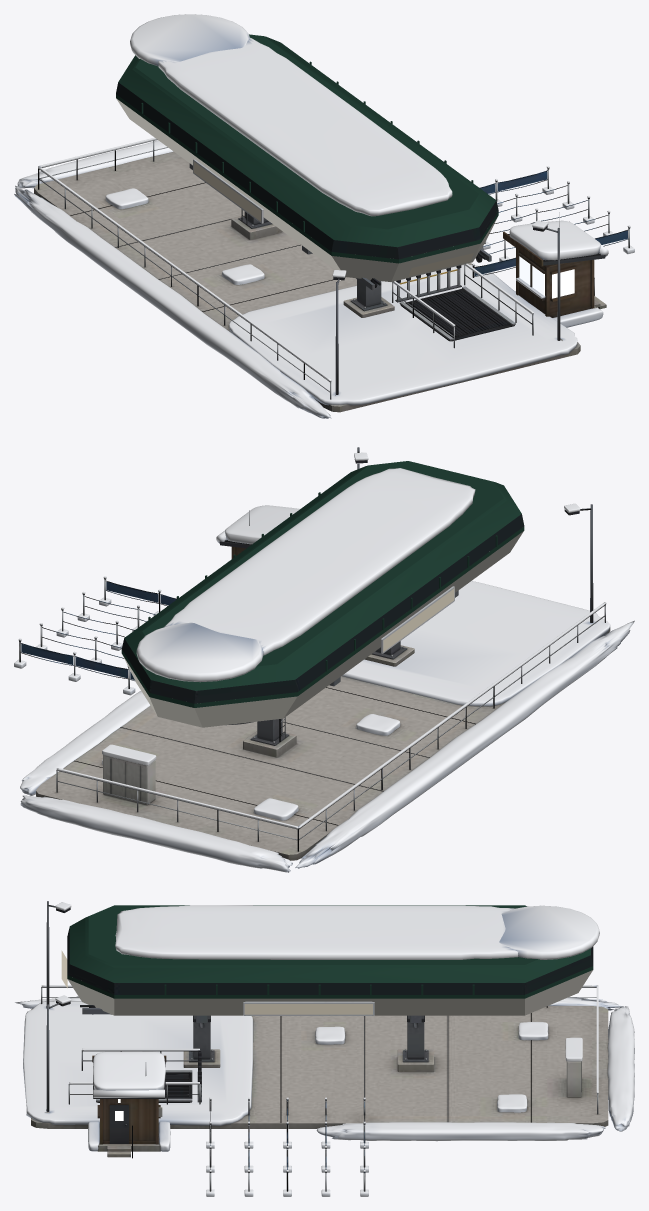
The model's file is terminal_detach_ctec.glb.
The picture shows the model from 3 angles, top to bottom: view 1: azimuth 30°, elevation 25°; view 2: azimuth 150°, elevation 25°; view 3: azimuth 270°, elevation 25°; orthographic projection. The views are drawn at different scales.
Visible parts, largest first — view 1: terminal_detach_ctec_snow, terminal_detach_ctec, terminal_detach_ctec_paint, terminal_detach_ctec_flat, terminal_detach_ctec_lit; view 2: terminal_detach_ctec_snow, terminal_detach_ctec, terminal_detach_ctec_paint, terminal_detach_ctec_flat; view 3: terminal_detach_ctec_snow, terminal_detach_ctec, terminal_detach_ctec_paint, terminal_detach_ctec_flat.
Boxes of the visible parts, bbox=[...] form: terminal_detach_ctec_snow: bbox=[14, 14, 634, 418]; terminal_detach_ctec: bbox=[34, 82, 630, 412]; terminal_detach_ctec_paint: bbox=[116, 34, 498, 281]; terminal_detach_ctec_flat: bbox=[193, 161, 473, 276]; terminal_detach_ctec_lit: bbox=[519, 256, 574, 298]; terminal_detach_ctec_snow: bbox=[14, 452, 634, 872]; terminal_detach_ctec: bbox=[19, 447, 610, 860]; terminal_detach_ctec_paint: bbox=[121, 461, 524, 727]; terminal_detach_ctec_flat: bbox=[383, 589, 454, 651]; terminal_detach_ctec_snow: bbox=[15, 902, 634, 1196]; terminal_detach_ctec: bbox=[31, 901, 608, 1191]; terminal_detach_ctec_paint: bbox=[67, 905, 593, 1015]; terminal_detach_ctec_flat: bbox=[61, 950, 372, 1014].
Size of the model in its own units: 21.41 by 7.92 by 29.03.
Materials: 7 (1 with a texture image).
